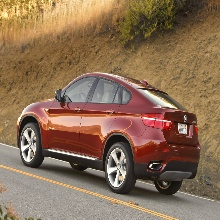no damage: (18, 71, 201, 196)
